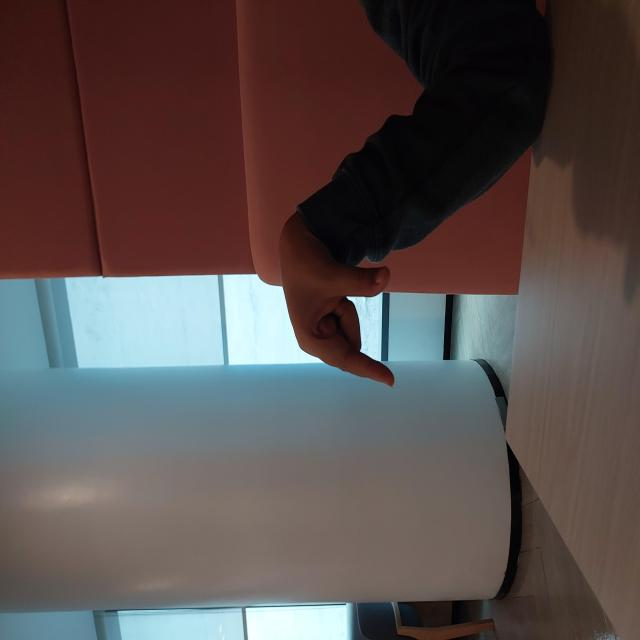Q: (248, 272, 414, 398)
